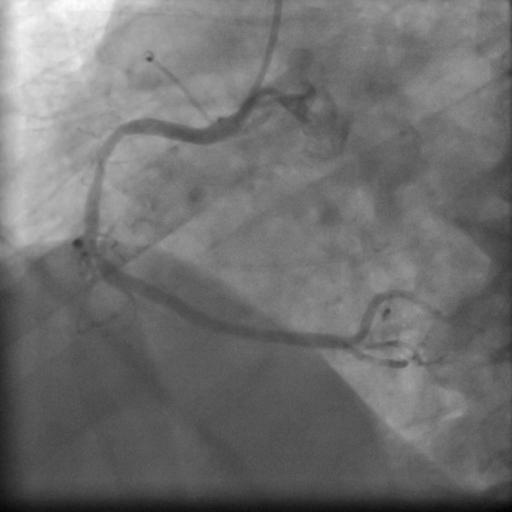Stenosis: (82, 141, 113, 262)
